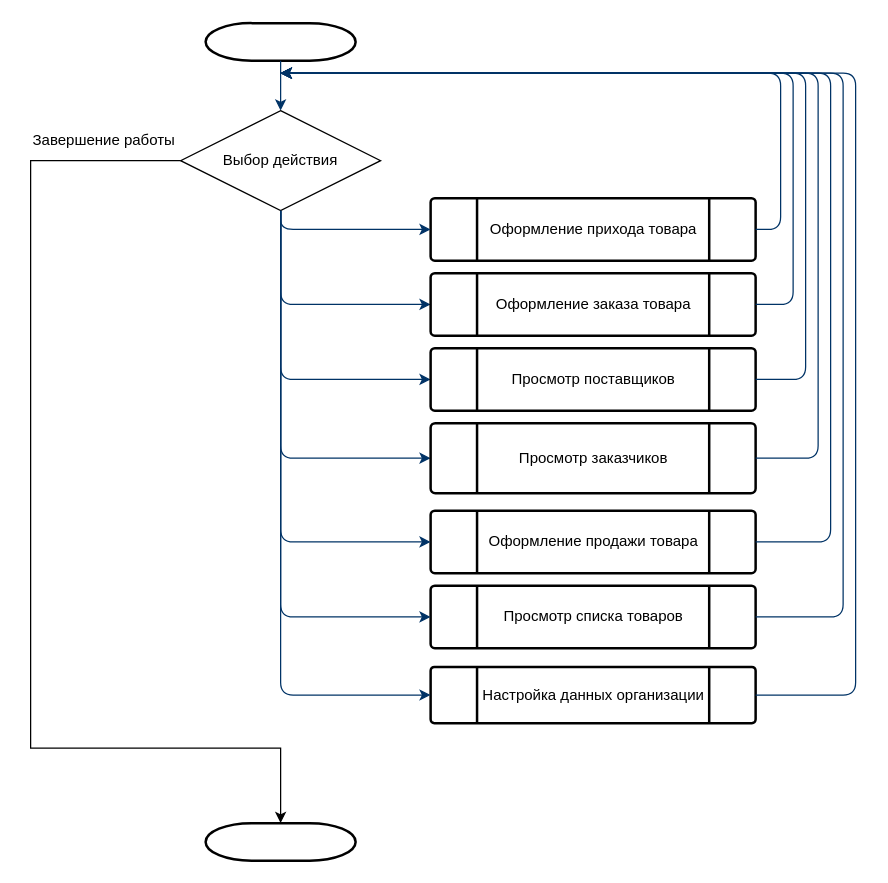
Image size: 888x883. Some labels were removed from this diagram. Here are the shapes that lost their labels. From the top down, the centre of each, then its label:
At (x=280, y=41): "Старт".
At (x=280, y=841): "Конец".
